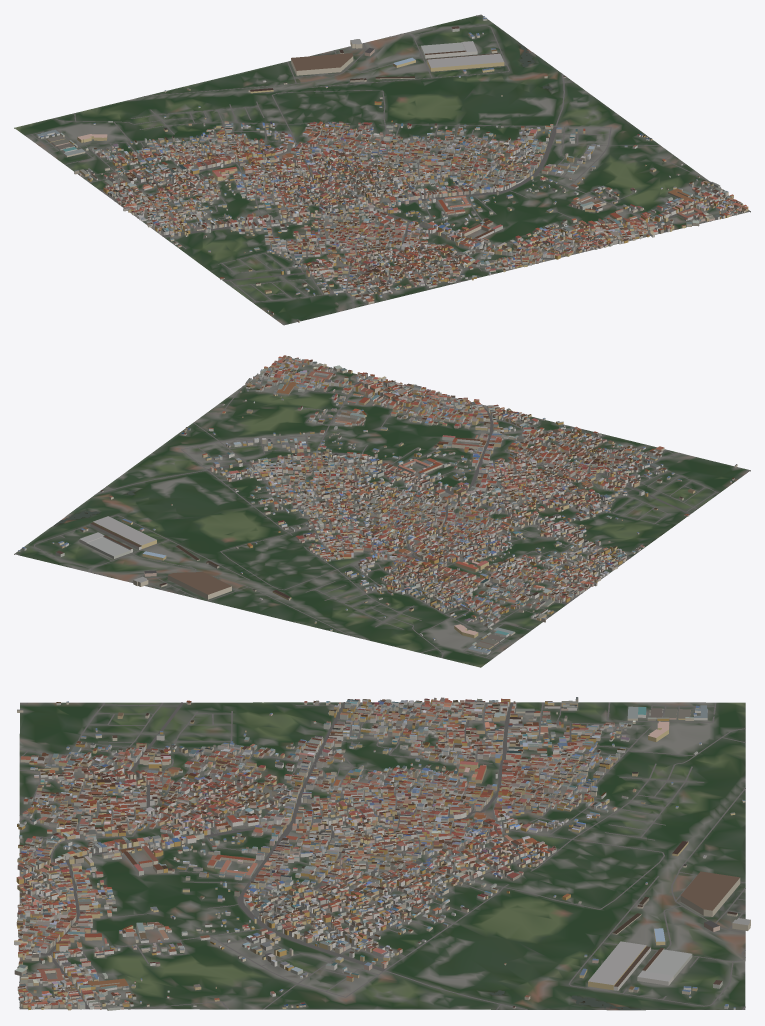
3 renders of one model, top to bottom at view 1: azimuth 30°, elevation 25°; view 2: azimuth 150°, elevation 25°; view 3: azimuth 270°, elevation 25°, orthographic. The views are drawn at different scales.
Parts seen in each view (by area): view 1: ground, buildings, roads; view 2: ground, buildings, roads; view 3: ground, buildings, roads.
Part boxes in pixels (x1,y1,x2,y2): ground: (14, 14, 750, 325); buildings: (36, 16, 748, 322); roads: (25, 15, 750, 324); ground: (14, 357, 750, 667); buildings: (18, 355, 737, 654); roads: (15, 359, 748, 659); ground: (19, 702, 745, 1010); buildings: (14, 697, 750, 1010); roads: (19, 702, 745, 1009).
Bounding box in the file's own units: 1416 × 19.75 × 1423.
